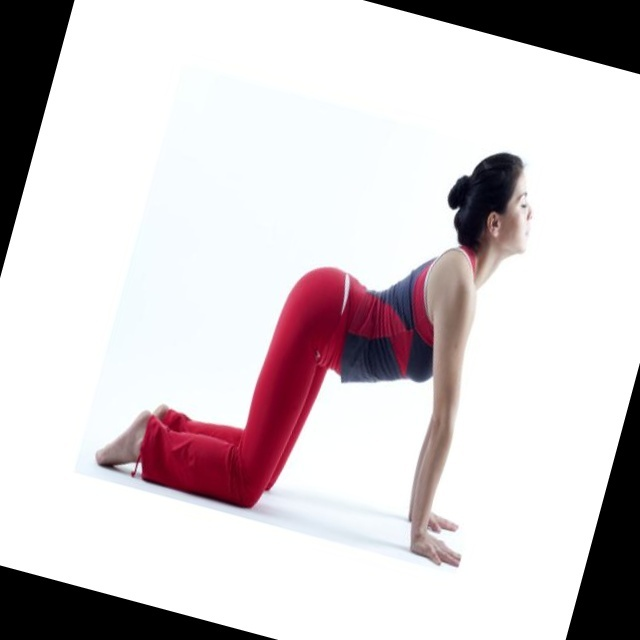Cow_Pose: (96, 152, 532, 566)
